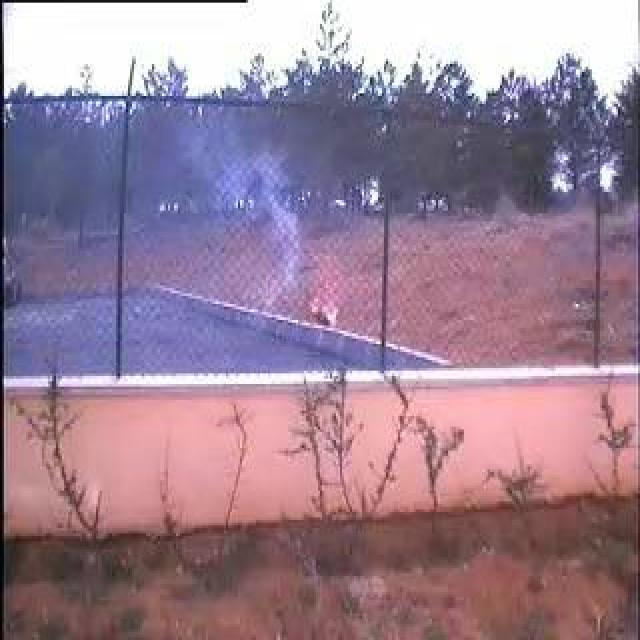Smoke: (129, 93, 307, 379)
